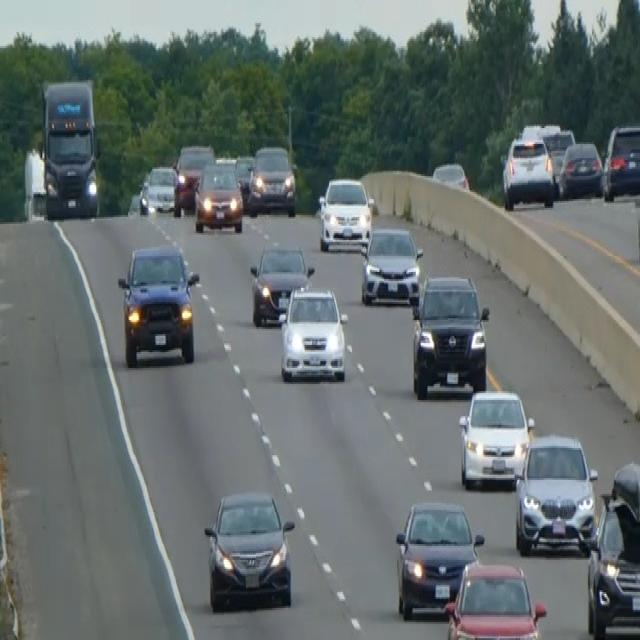car: (203, 487, 295, 612), (394, 498, 484, 618), (116, 240, 200, 368), (513, 432, 597, 556), (411, 272, 490, 398), (585, 461, 639, 638), (443, 560, 547, 638), (458, 387, 535, 489), (278, 283, 348, 382), (248, 240, 314, 327), (360, 224, 423, 306), (317, 174, 374, 251), (501, 133, 555, 210), (247, 142, 297, 217), (193, 160, 243, 233), (173, 142, 215, 214), (602, 121, 639, 201), (558, 139, 603, 199), (139, 162, 180, 215), (543, 126, 575, 188), (431, 160, 469, 190), (234, 153, 254, 206)
lorry: (38, 74, 102, 220)
